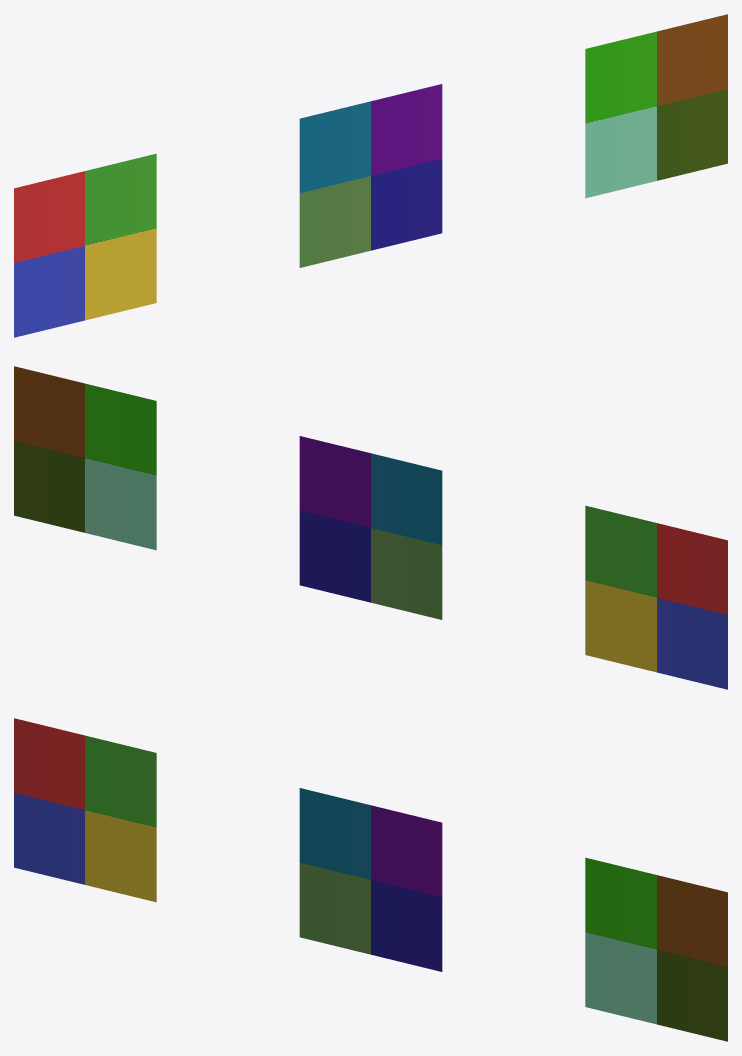
File: udim.gltf
The picture shows the model from 3 angles, top to bottom: view 1: azimuth 30°, elevation 25°; view 2: azimuth 150°, elevation 25°; view 3: azimuth 330°, elevation 25°; orthographic projection.
Visible parts, largest first — view 1: Tile.1002, Tile.1001, Tile.1011; view 2: Tile.1002, Tile.1001, Tile.1011; view 3: Tile.1002, Tile.1001, Tile.1011.
Boxes of the visible parts, left/top/right/bottom form: Tile.1002: left=299, top=84, right=442, bottom=267; Tile.1001: left=14, top=153, right=156, bottom=337; Tile.1011: left=585, top=14, right=727, bottom=198; Tile.1002: left=299, top=436, right=442, bottom=619; Tile.1001: left=585, top=505, right=727, bottom=689; Tile.1011: left=14, top=366, right=156, bottom=550; Tile.1002: left=299, top=788, right=442, bottom=971; Tile.1001: left=14, top=718, right=156, bottom=902; Tile.1011: left=585, top=857, right=727, bottom=1041.
Bounding box in the file's own units: 5 × 1 × 0.
3 materials, 3 textured.
